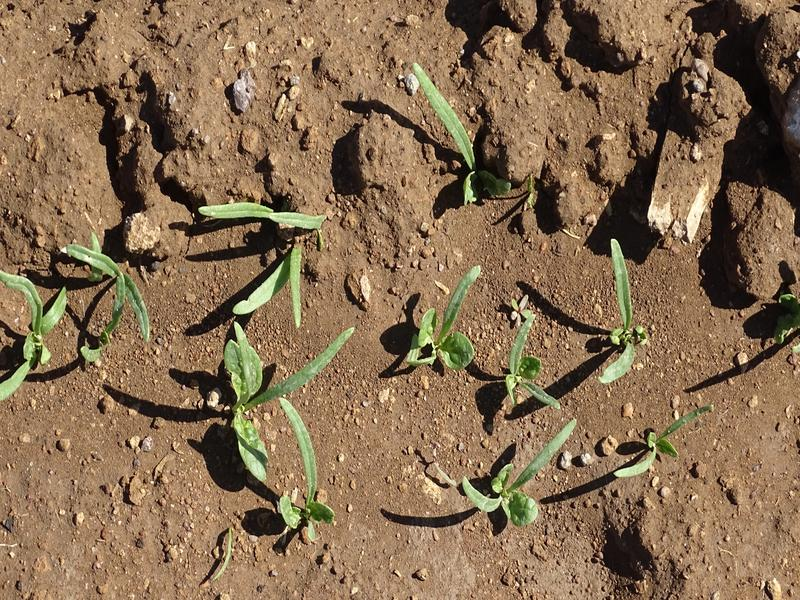Espinaca: (202, 330, 355, 534), (1, 233, 141, 379), (218, 187, 337, 311), (413, 56, 486, 201), (462, 423, 573, 517), (620, 406, 716, 484), (415, 266, 477, 376), (591, 260, 650, 370), (507, 311, 565, 408)
